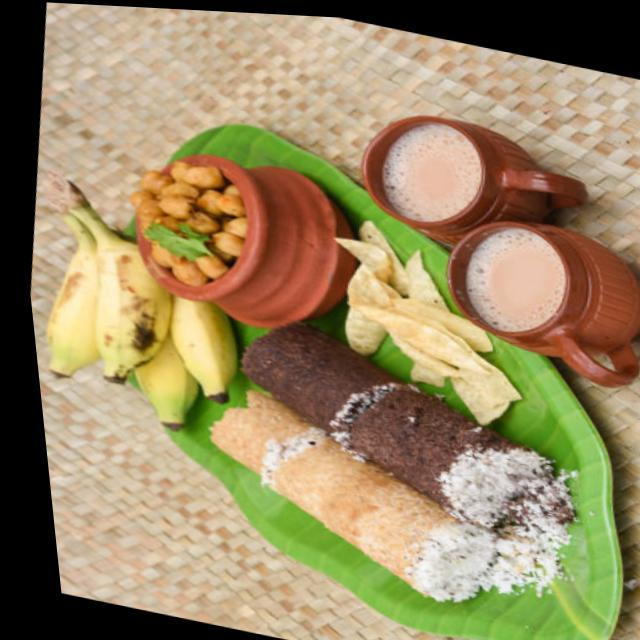BANANA: (46, 178, 236, 432)
PAPADAM: (341, 216, 533, 426)
PUTTU: (206, 309, 575, 603)
SUNDAL: (133, 155, 271, 294)
